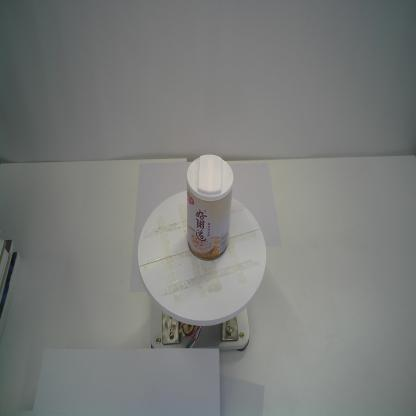Canned Food: (185, 150, 236, 262)
